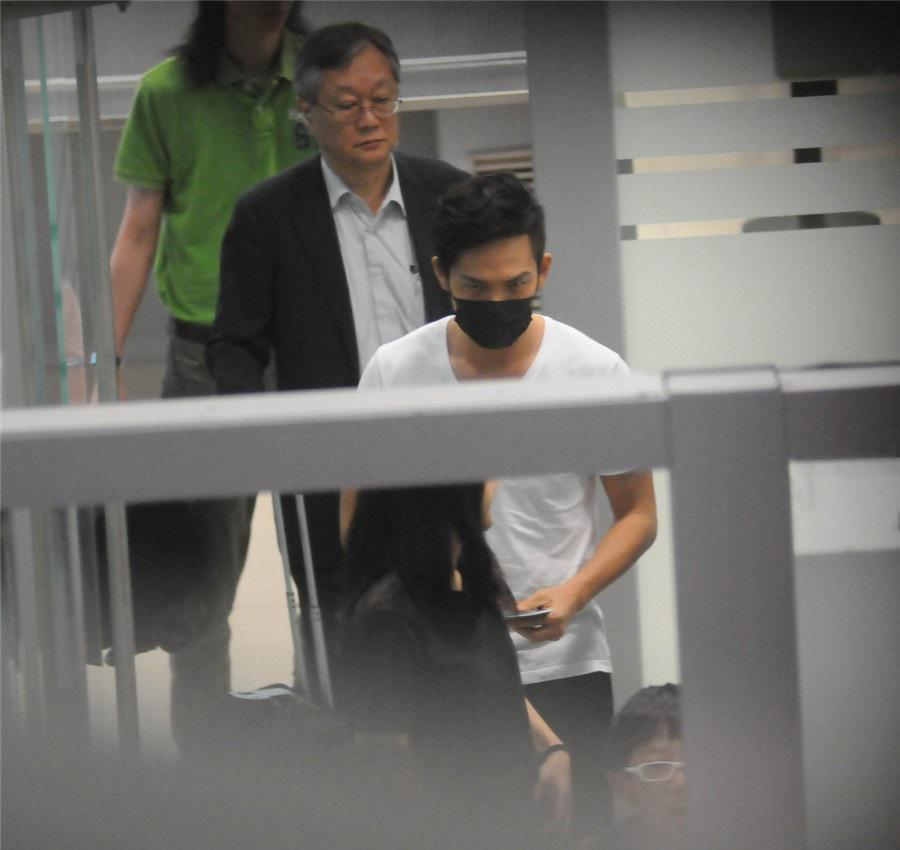NONE: (318, 74, 399, 166)
OK: (451, 238, 537, 343)
